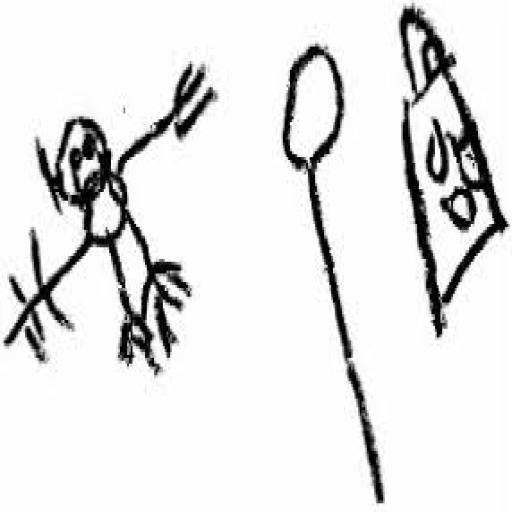person: (3, 55, 225, 390)
